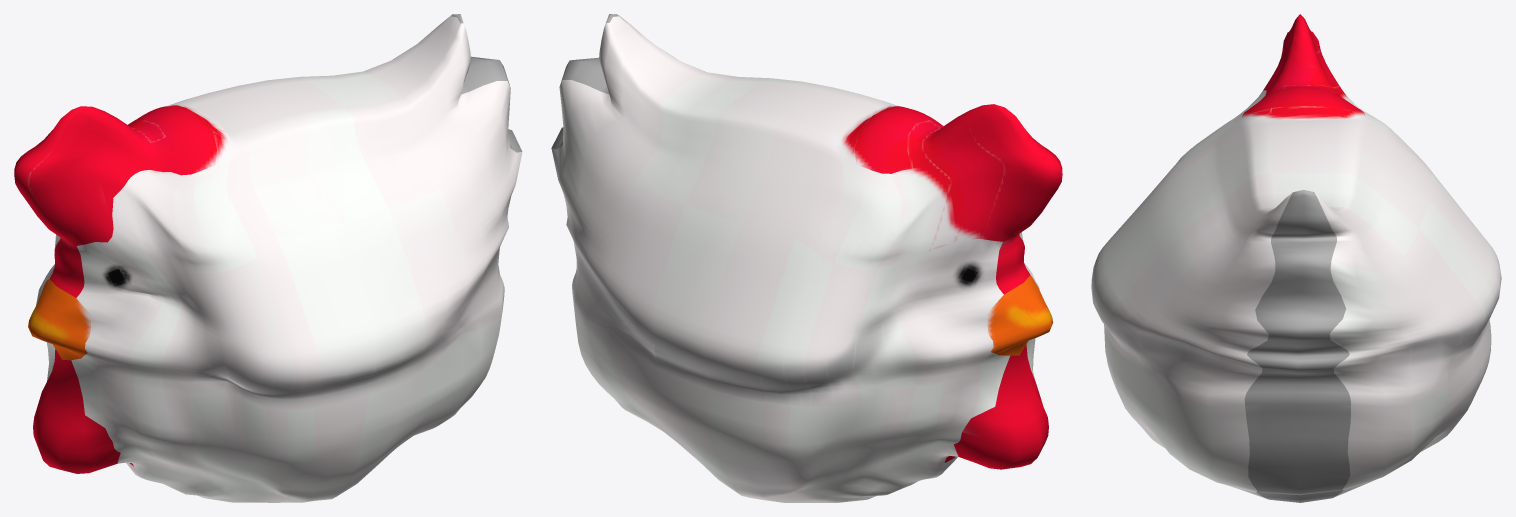
The model's file is GD CHICKEN 1.fbx.
3 views of the same model, side by side, from view 1: azimuth 30°, elevation 25°; view 2: azimuth 150°, elevation 25°; view 3: azimuth 270°, elevation 25° (orthographic). The views are drawn at different scales.
Parts seen in each view (by area): view 1: Cube; view 2: Cube; view 3: Cube.
Part boxes in pixels (x1=…): Cube: x1=14, y1=14, x2=522, y2=502; Cube: x1=551, y1=14, x2=1062, y2=502; Cube: x1=1091, y1=14, x2=1501, y2=502.
Size of the model in its own units: 190 by 152 by 147.
1 material, 1 textured.
